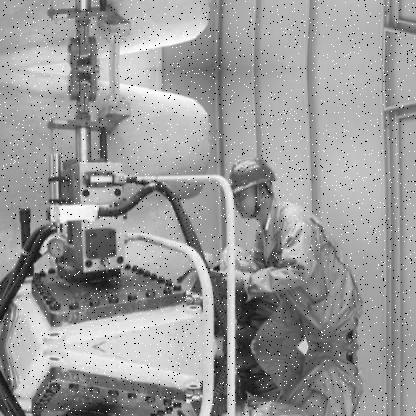Helmet: (224, 160, 280, 218)
